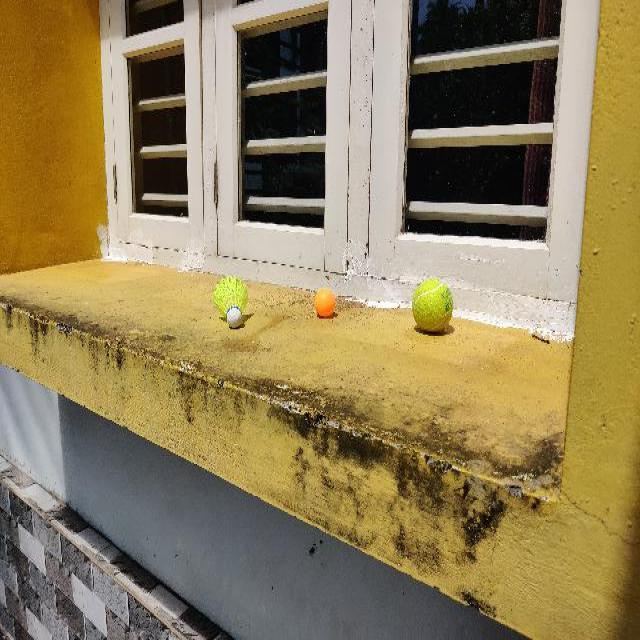ping-pong-ball: (314, 289, 334, 316)
